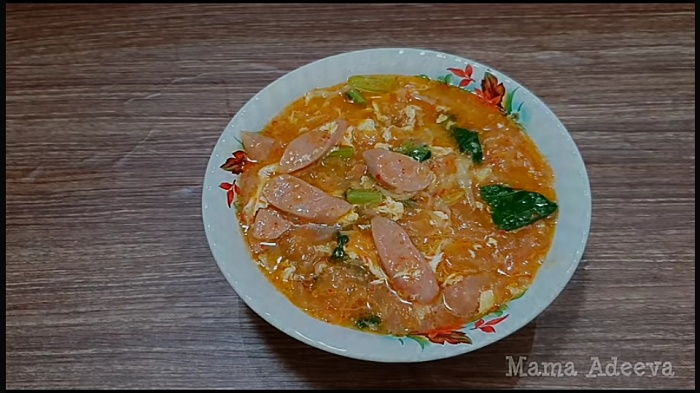seblak: (239, 76, 558, 334)
